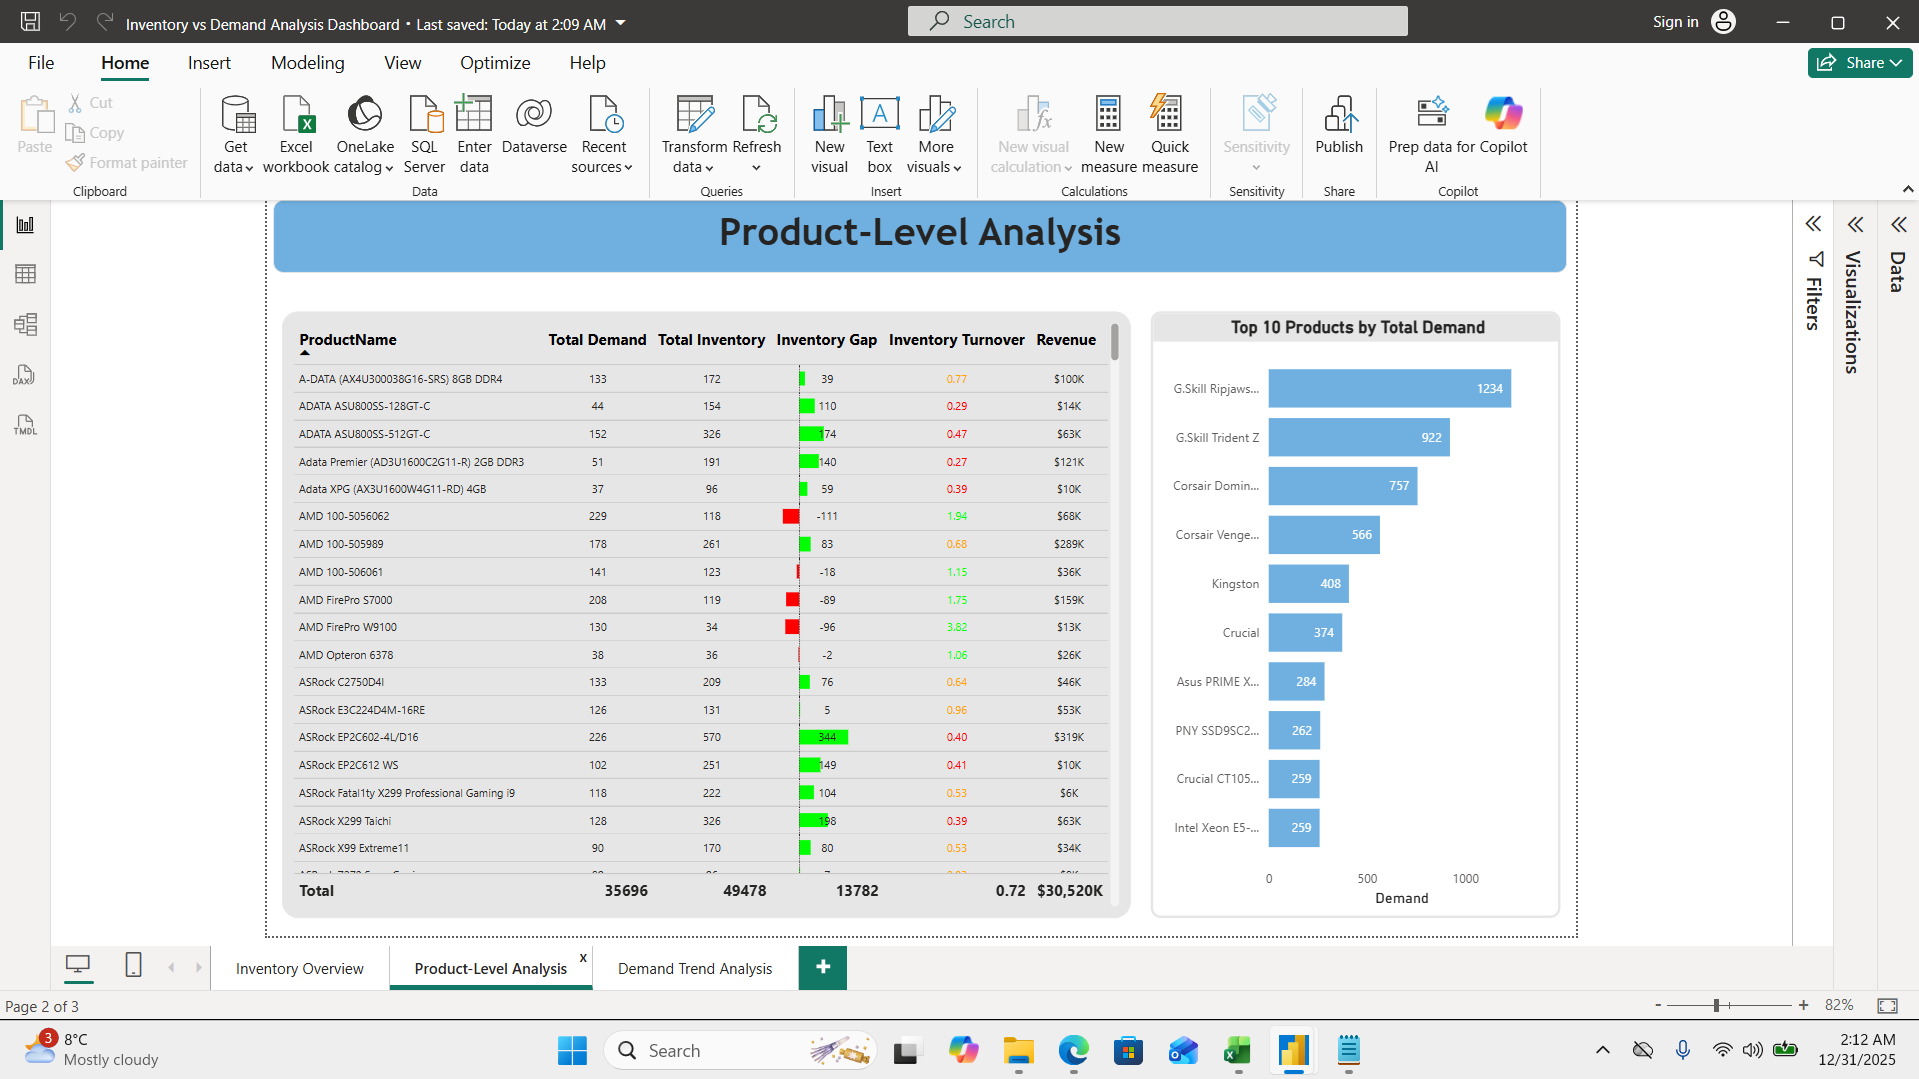

This screenshot's page, from the dashboard's own definition file:
{"tool":"powerbi","page":{"name":"Product-Level Analysis","canvas":[1280,720],"ordinal":1},"visuals":[{"type":"tableEx","fields":{"Values":["SalesInventory.ProductName","MeasureTable.Total Demand","MeasureTable.Total Inventory","MeasureTable.Inventory Gap","MeasureTable.Inventory Turnover","MeasureTable.Revenue"]},"box":[14.2,109.4,830.4,593.4],"z":0},{"type":"clusteredBarChart","title":"Top 10 Products by Total Demand","fields":{"Category":["SalesInventory.ProductName"],"Y":["MeasureTable.Total Demand"]},"box":[864.8,109.4,401,593.4],"z":1000},{"type":"textbox","box":[6.1,0,1265.8,70.9],"z":2000}]}

Visuals, with their boxes on the page's 1280x720 design canvas (x1, y1, x2, y2). These are canvas units, not pixel positions in the 1919x1079 screenshot, which may show the page scaled, cropped or inside an application window:
tableEx - SalesInventory.ProductName x MeasureTable.Total Demand: (x1=14, y1=109, x2=845, y2=703)
"Top 10 Products by Total Demand" clusteredBarChart: (x1=865, y1=109, x2=1266, y2=703)
textbox: (x1=6, y1=0, x2=1272, y2=71)
